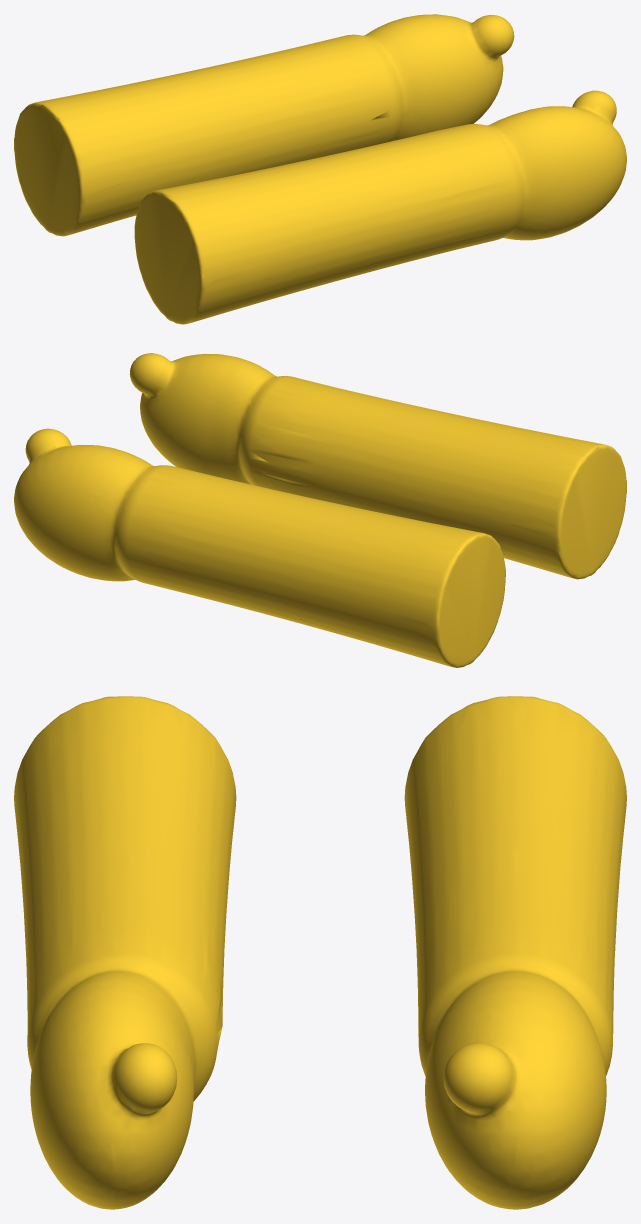
The model's file is first-person-hands.glb.
3 renders of one model, top to bottom at view 1: azimuth 30°, elevation 25°; view 2: azimuth 150°, elevation 25°; view 3: azimuth 270°, elevation 25°, orthographic. The views are drawn at different scales.
Visible parts, largest first — view 1: Cotton_Hand_L, Cotton_Hand_R; view 2: Cotton_Hand_R, Cotton_Hand_L; view 3: Cotton_Hand_R, Cotton_Hand_L.
Part boxes in pixels (left/top/right/bottom): Cotton_Hand_L: left=134, top=90, right=626, bottom=324; Cotton_Hand_R: left=14, top=14, right=514, bottom=236; Cotton_Hand_R: left=14, top=428, right=505, bottom=667; Cotton_Hand_L: left=129, top=353, right=626, bottom=579; Cotton_Hand_R: left=404, top=696, right=626, bottom=1209; Cotton_Hand_L: left=14, top=696, right=236, bottom=1209.
Bounding box in the file's own units: 0.6513 × 0.173 × 0.4707.
